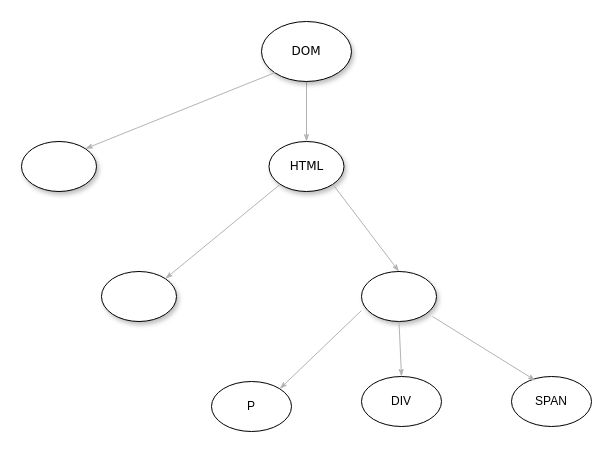
Image size: 609x449. Some labels were removed from this diagram. The centre of each missing label's shape, as x and y in pixels:
"BODY" belongs at (x=399, y=297).
"DOCTYPE" belongs at (x=59, y=167).
"HEAD" belongs at (x=139, y=297).
